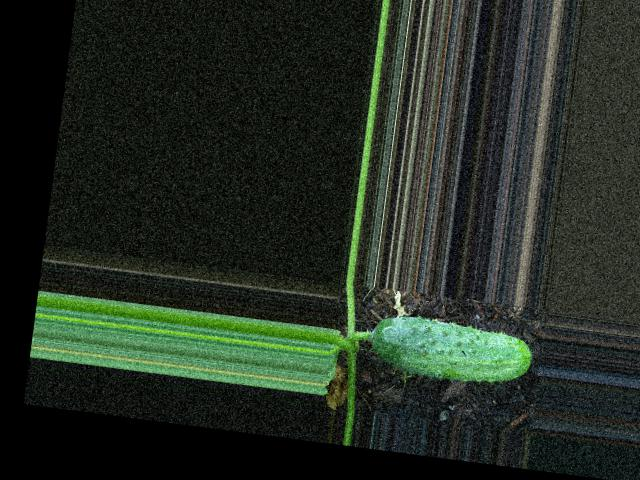cucumber: (368, 311, 536, 390)
